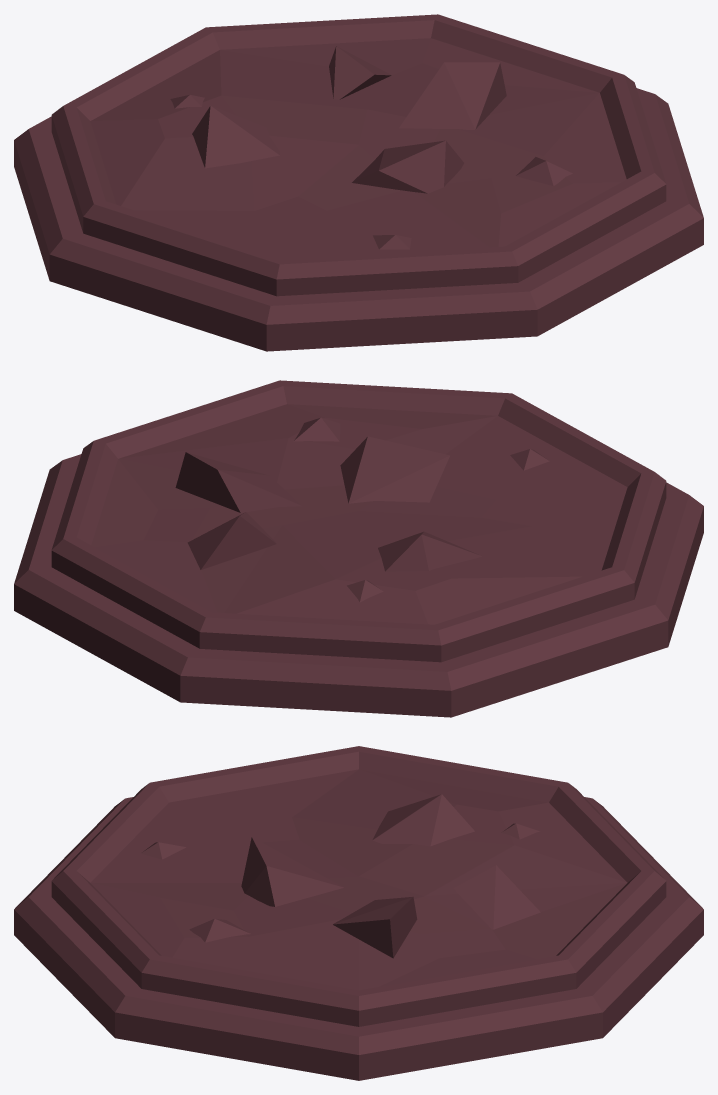
The model's file is scifi-pot-low-empty.fbx.
3 views of the same model, one above another, from view 1: azimuth 30°, elevation 25°; view 2: azimuth 150°, elevation 25°; view 3: azimuth 270°, elevation 25° (orthographic). The views are drawn at different scales.
Parts seen in each view (by area): view 1: scifi-pot-low-empty; view 2: scifi-pot-low-empty; view 3: scifi-pot-low-empty.
Boxes of the visible parts, left/top/right/bottom form: scifi-pot-low-empty: left=14, top=14, right=703, bottom=351; scifi-pot-low-empty: left=14, top=380, right=703, bottom=717; scifi-pot-low-empty: left=14, top=746, right=703, bottom=1080.
Bounding box in the file's own units: 2.76 × 0.4099 × 2.76.
